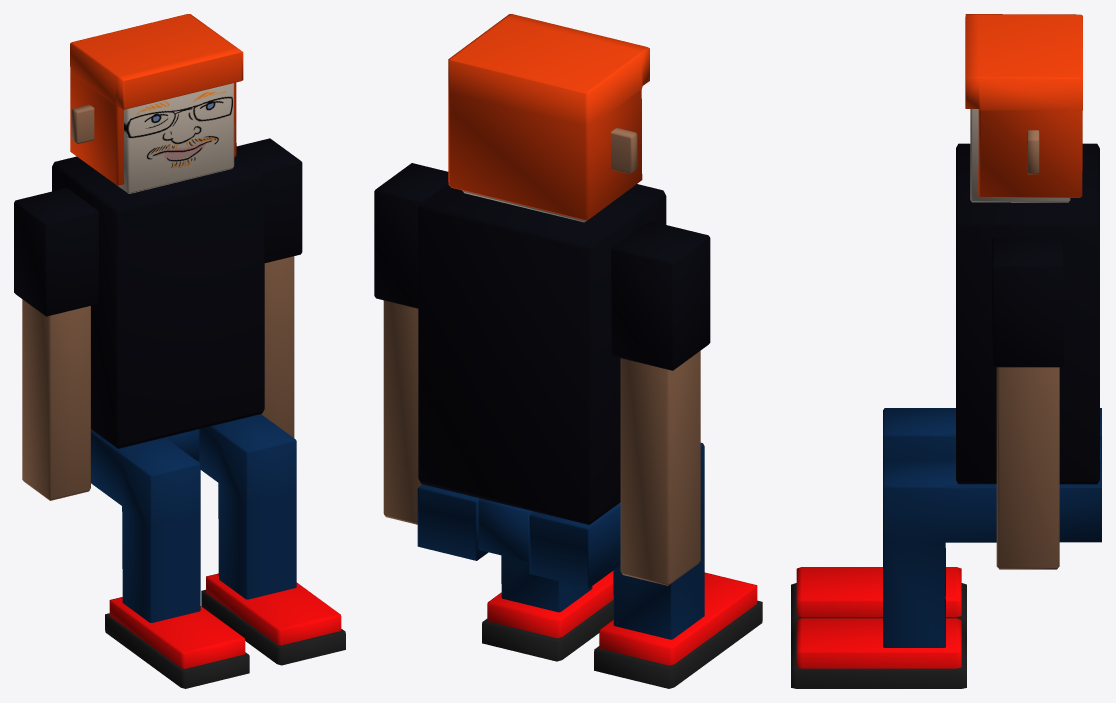
Rendered from NenadSitting.FBX.
3 renders of one model, left to right at view 1: azimuth 30°, elevation 25°; view 2: azimuth 150°, elevation 25°; view 3: azimuth 270°, elevation 25°, orthographic. The views are drawn at different scales.
Parts seen in each view (by area): view 1: Ass, Body, Head, RArm, LArm; view 2: Body, Ass, Head, RArm, LArm; view 3: Ass, Body, LArm, Head.
Part boxes in pixels (box(x1,y1,x2,y2)): Ass: box(91, 414, 345, 688); Body: box(52, 155, 264, 448); Head: box(70, 14, 243, 193); RArm: box(14, 188, 98, 500); LArm: box(236, 138, 302, 437); Body: box(418, 184, 666, 524); Ass: box(417, 442, 762, 688); Head: box(448, 14, 649, 222); RArm: box(611, 221, 710, 585); LArm: box(374, 163, 448, 524); Ass: box(791, 408, 1101, 688); Body: box(956, 143, 1099, 484); LArm: box(992, 237, 1063, 569); Head: box(965, 14, 1082, 202).
Bounding box in the file's own units: 133 × 270 × 127.
